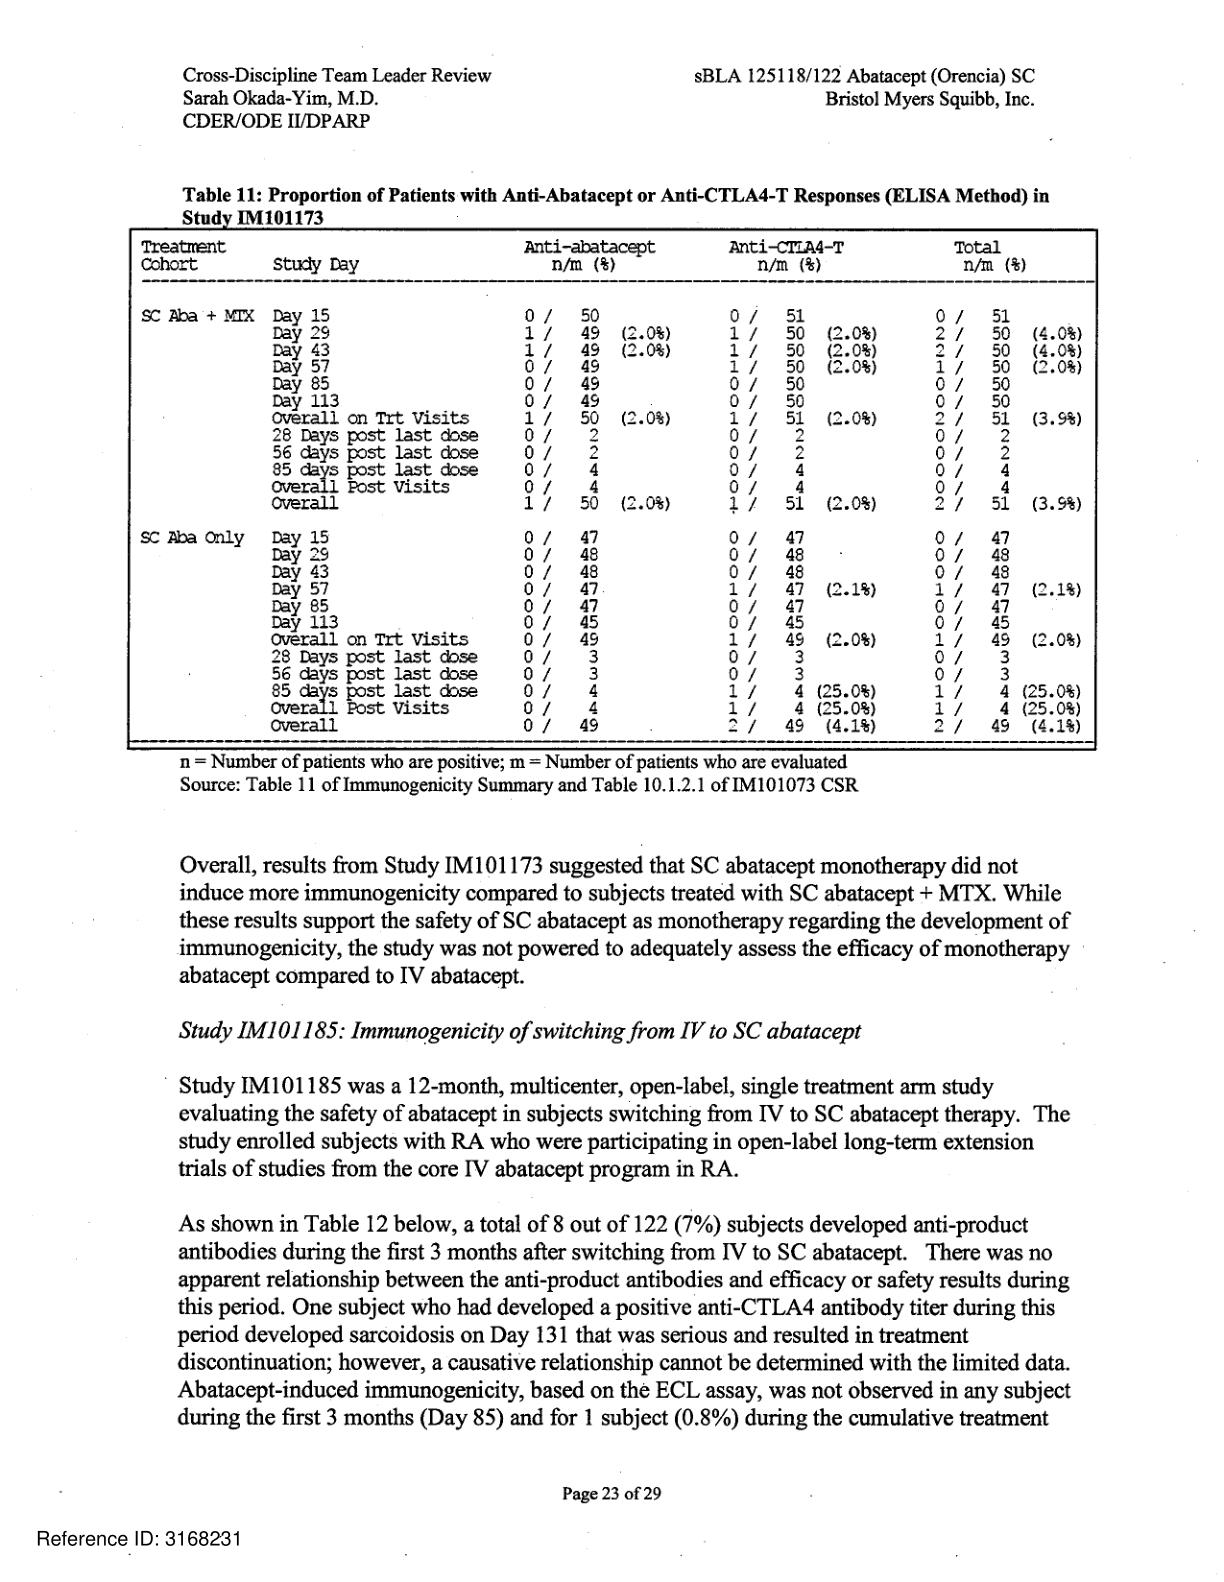partial_lined_merged_cells: (125, 226, 1098, 751)
